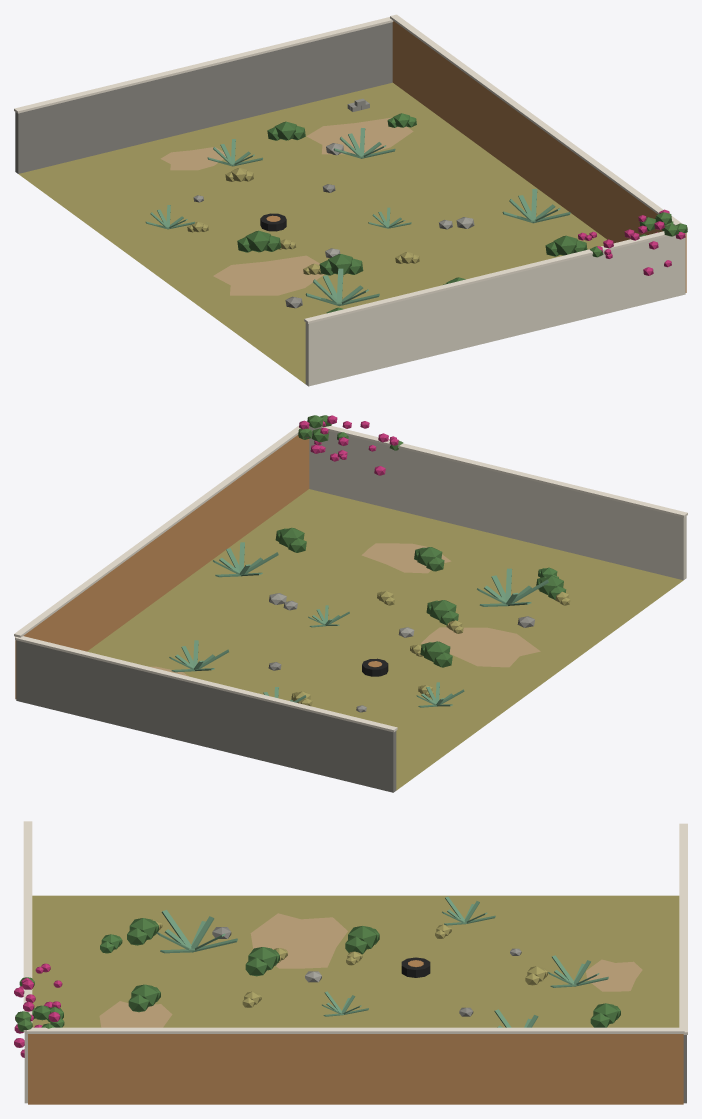
File: barrio_baldio.glb
3 views of the same model, one above another, from view 1: azimuth 30°, elevation 25°; view 2: azimuth 150°, elevation 25°; view 3: azimuth 270°, elevation 25° (orthographic). The views are drawn at different scales.
Parts seen in each view (by area): view 1: baldio_fachadas, baldio_suelo, baldio_tierra; view 2: baldio_fachadas, baldio_suelo, baldio_tierra; view 3: baldio_suelo, baldio_fachadas, baldio_tierra.
Part boxes in pixels (x1,y1,x2,y2): baldio_fachadas: (14,14,687,386); baldio_suelo: (18,82,606,383); baldio_tierra: (160,117,413,295); baldio_fachadas: (14,415,687,792); baldio_suelo: (87,489,683,790); baldio_tierra: (149,543,540,676); baldio_suelo: (32,895,679,1027); baldio_fachadas: (14,821,687,1104); baldio_tierra: (99,913,642,1027).
Size of the model in its own units: 18.2 by 3.81 by 24.68.
